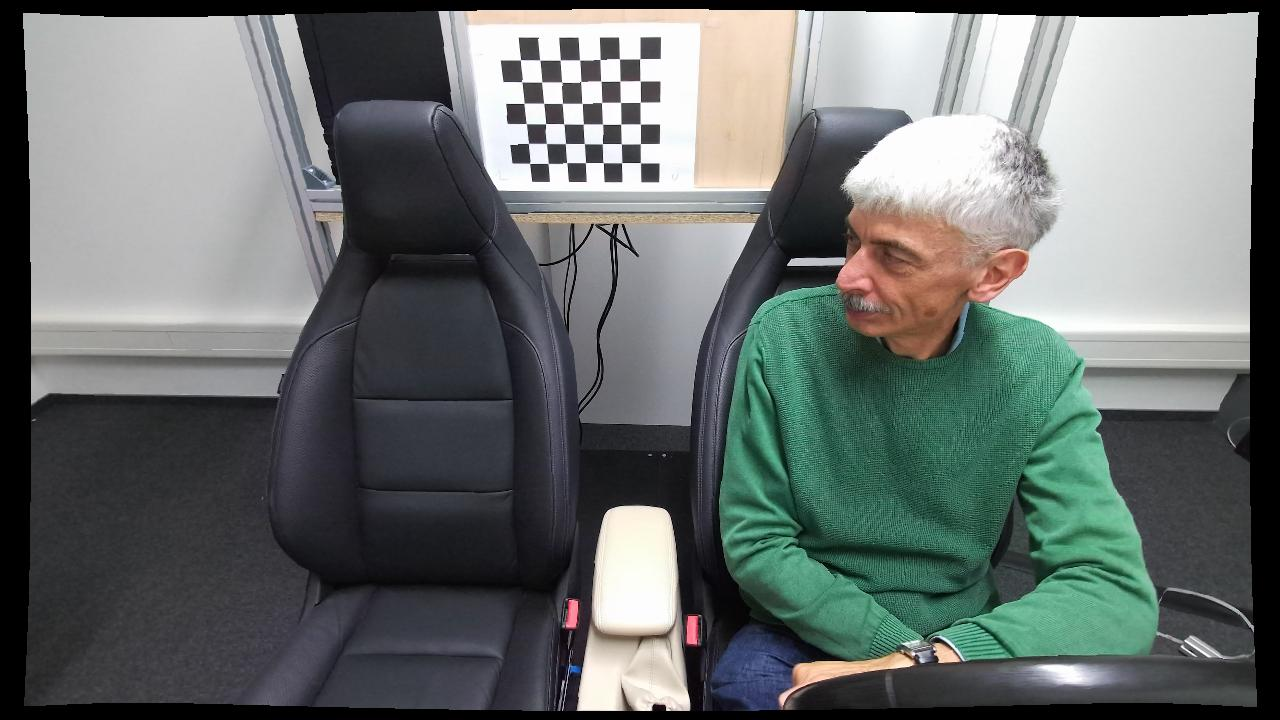Distracted: (703, 110, 1159, 713)
